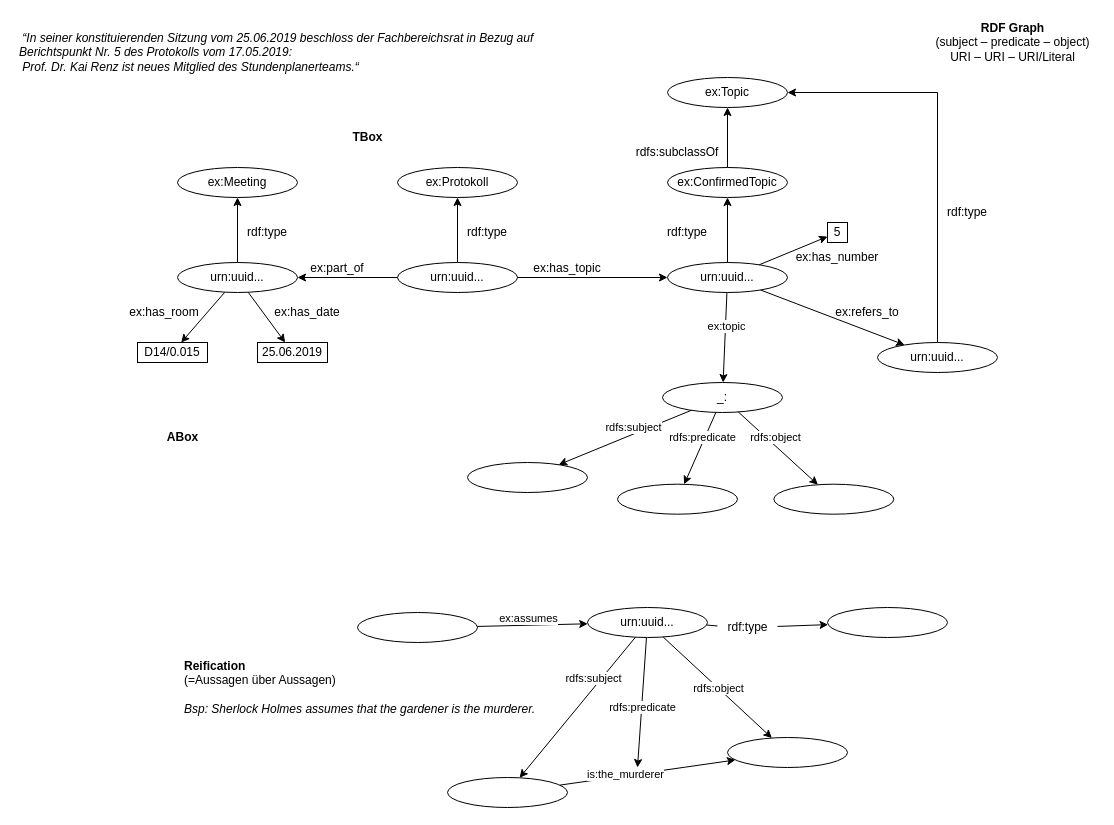
This 1114x825 diagram has some shape labels left out. The shapes that lost their labels are listed below. From the top down, each one's centre as x and y in pixels, then its label:
(x=527, y=477): Prof. Dr. Kai Renz
(x=677, y=498): foaf:member_of
(x=833, y=498): Stundenplanerteam
(x=417, y=627): ex:sherlock_holmes
(x=887, y=622): rdf:statement
(x=787, y=752): ex:murderer
(x=507, y=792): ex:gardener
